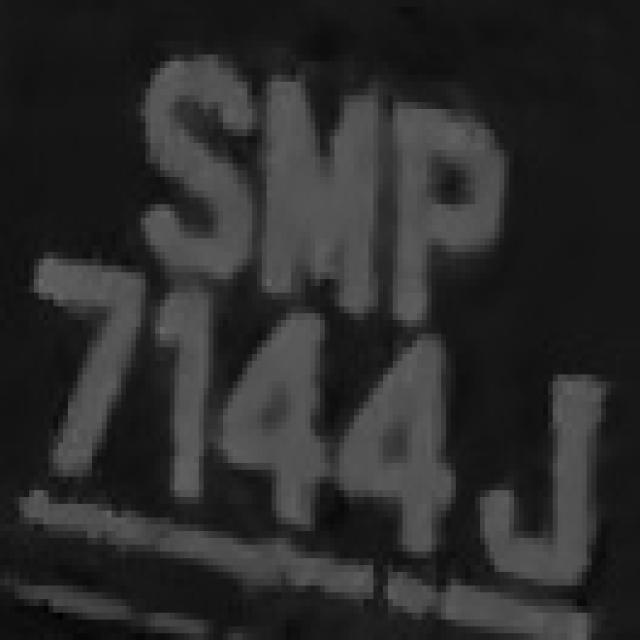1: (136, 259, 223, 524)
4: (315, 306, 466, 586), (208, 279, 325, 558)
7: (20, 190, 150, 477)
J: (470, 341, 611, 599)
M: (257, 34, 393, 334)
P: (373, 75, 509, 320)
S: (121, 27, 257, 279)
